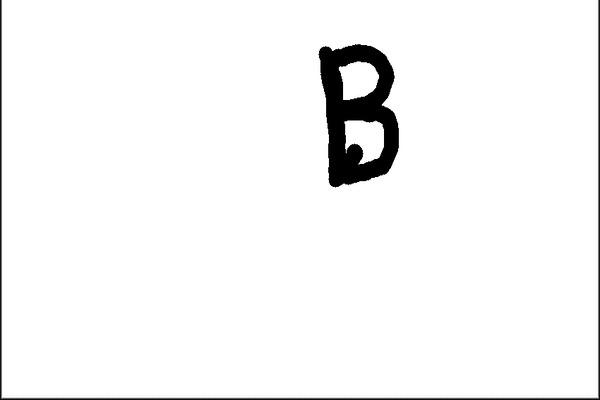B: (311, 33, 405, 194)
